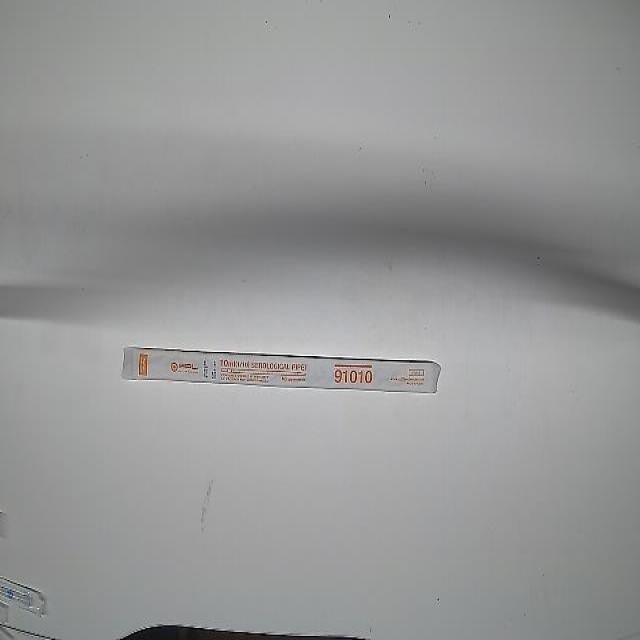Serelogical Pipet 10 mL - Sealed: (119, 344, 444, 398)
